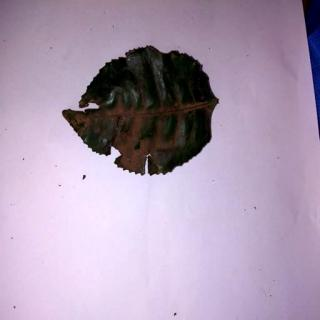Anthracnose: (66, 44, 220, 176)
